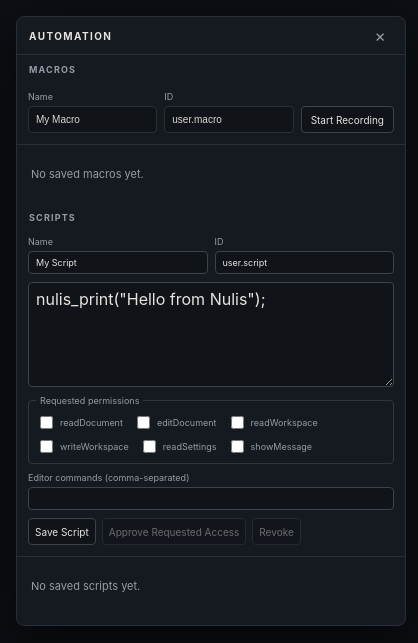
Test case: records and atomically saves a named macro
Expected: the text "No saved macros yet." is shown, [31,167,144,181]
Replace the text in the field named "Macro name" with "Insert X" at (93, 120), box [28,106,157,133]
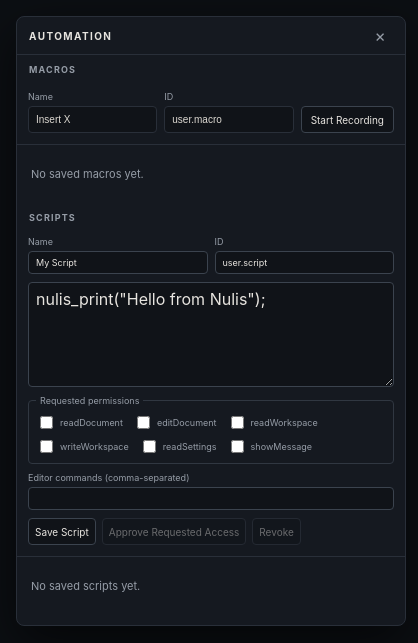
Replace the text in the field named "Macro ID" with "user.insert-x" at (229, 120), box [164,106,294,133]
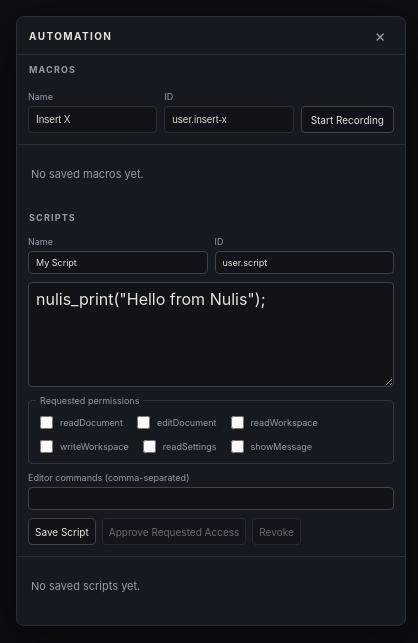
Click the button "Start Recording" at (347, 120), box [301,106,394,133]
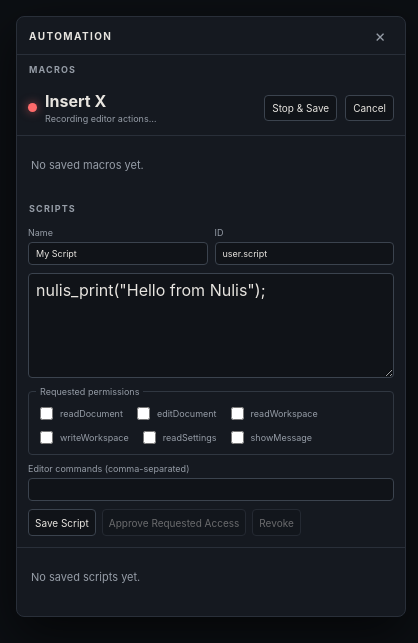
Now the text "Recording editor actions…" is shown, box [45,113,156,124]
Click the button "Stop & Save" at (301, 108), box [264,94,337,120]
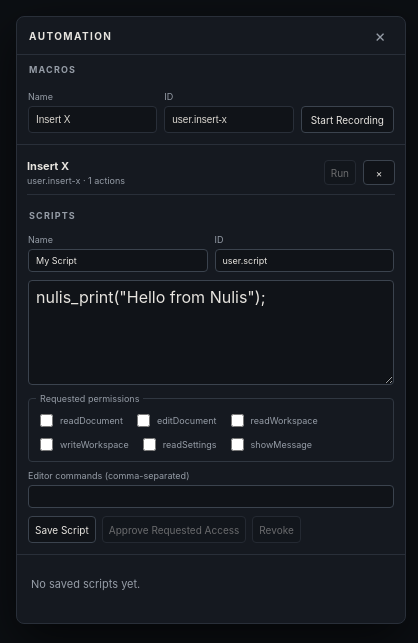
Now the text "user.insert-x · 1 actions" is shown, box [27,175,125,186]
